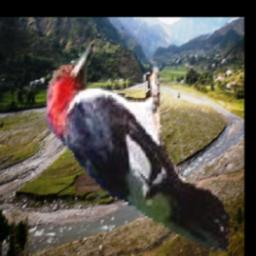Woodpecker: (47, 39, 230, 256)
